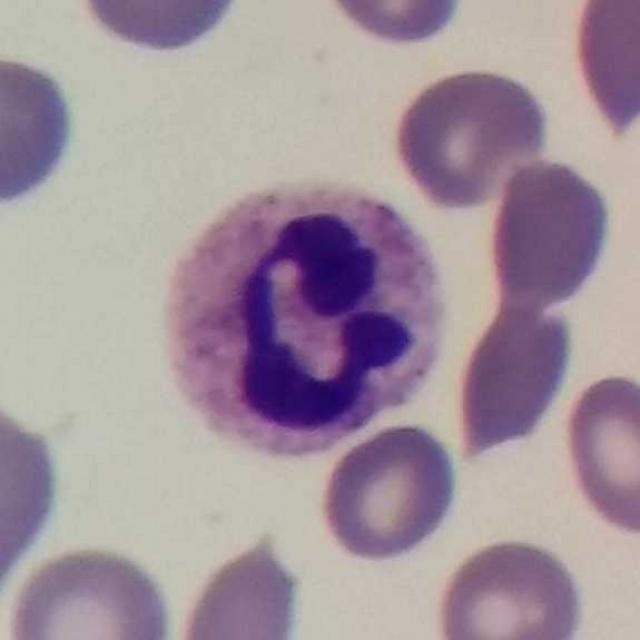Neutrophil: (144, 167, 458, 471)
RBC: (386, 61, 554, 214), (315, 418, 464, 569), (447, 295, 579, 465), (482, 154, 619, 310), (3, 538, 179, 640), (429, 532, 591, 640), (0, 382, 70, 626), (169, 527, 310, 640), (556, 367, 640, 540), (0, 44, 83, 219), (61, 0, 252, 63), (565, 0, 639, 142), (313, 0, 471, 52)
